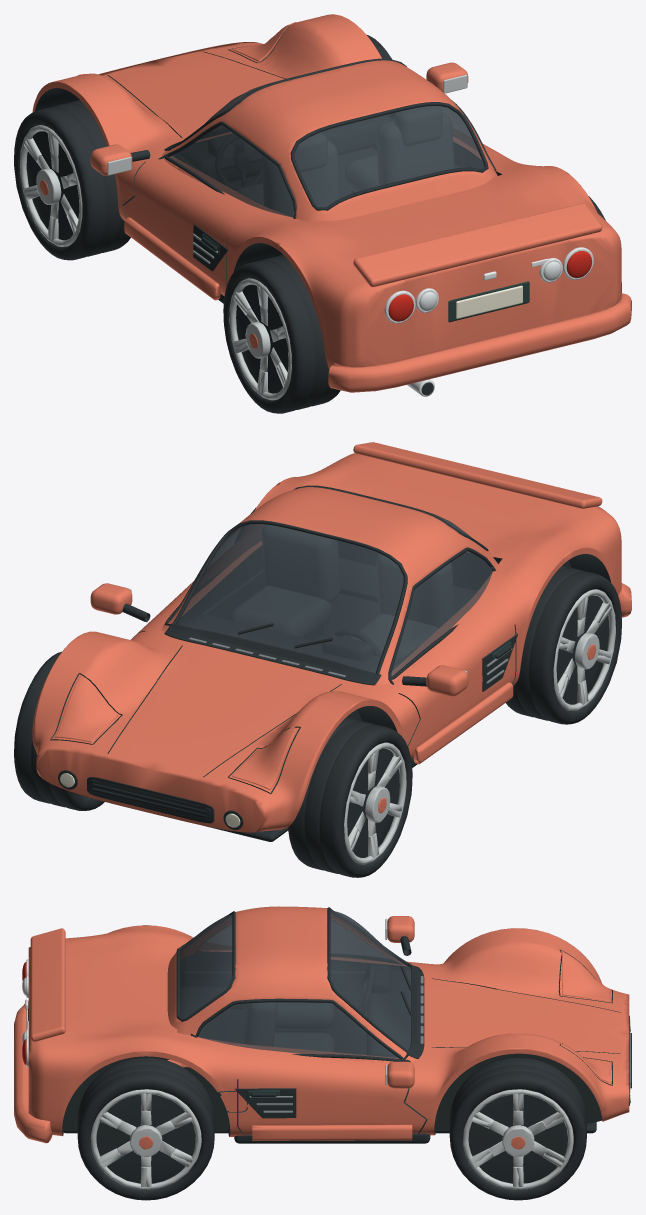
The model's file is midori_lod1.fbx.
The picture shows the model from 3 angles, top to bottom: view 1: azimuth 30°, elevation 25°; view 2: azimuth 150°, elevation 25°; view 3: azimuth 270°, elevation 25°; orthographic projection. The views are drawn at different scales.
Parts seen in each view (by area): view 1: Body, Wheel_FL_Mesh, Wheel_RL_Mesh; view 2: Body, Wheel_FL_Mesh, Wheel_RL_Mesh, Wheel_FR_Mesh; view 3: Body, Wheel_RR_Mesh, Wheel_FR_Mesh.
Boxes of the visible parts, left/top/right/bottom form: Body: left=32, top=14, right=631, bottom=396; Wheel_FL_Mesh: left=14, top=100, right=130, bottom=260; Wheel_RL_Mesh: left=223, top=254, right=340, bottom=413; Body: left=32, top=442, right=631, bottom=841; Wheel_FL_Mesh: left=288, top=717, right=412, bottom=877; Wheel_RL_Mesh: left=506, top=565, right=621, bottom=724; Wheel_FR_Mesh: left=14, top=651, right=104, bottom=810; Body: left=14, top=906, right=631, bottom=1143; Wheel_RR_Mesh: left=77, top=1057, right=214, bottom=1200; Wheel_FR_Mesh: left=449, top=1057, right=586, bottom=1200.
Size of the model in its own units: 231 by 135 by 379.
